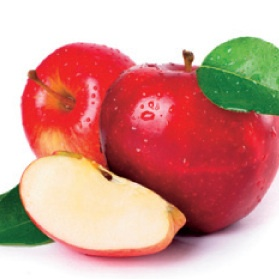apple: (103, 32, 279, 236), (21, 151, 188, 263), (18, 42, 136, 174)
